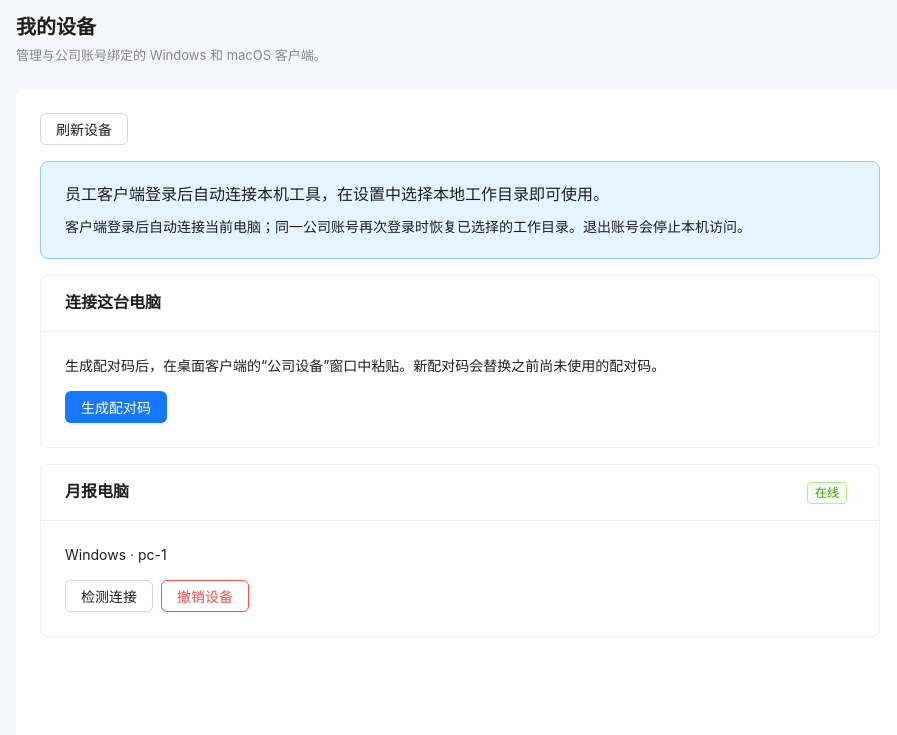
Test: company devices › creates a bounded pairing code and explains automatic desktop connection
Click the button "生成配对码" at (116,407), box [65, 391, 167, 423]
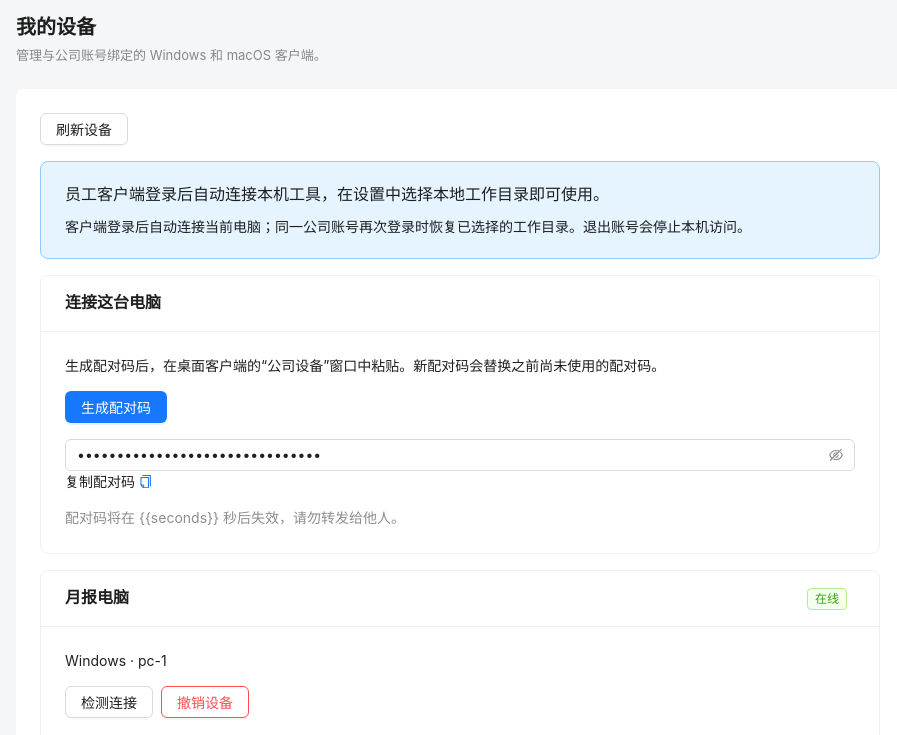
Expected: the text "员工客户端登录后自动连接本机工具，在设置中选择本地工作目录即可使用。" is shown, [65, 184, 609, 204]
Expected: the password field named "一次性配对码" holds "mosswork-pair.single-use-secret", [77, 444, 825, 466]
